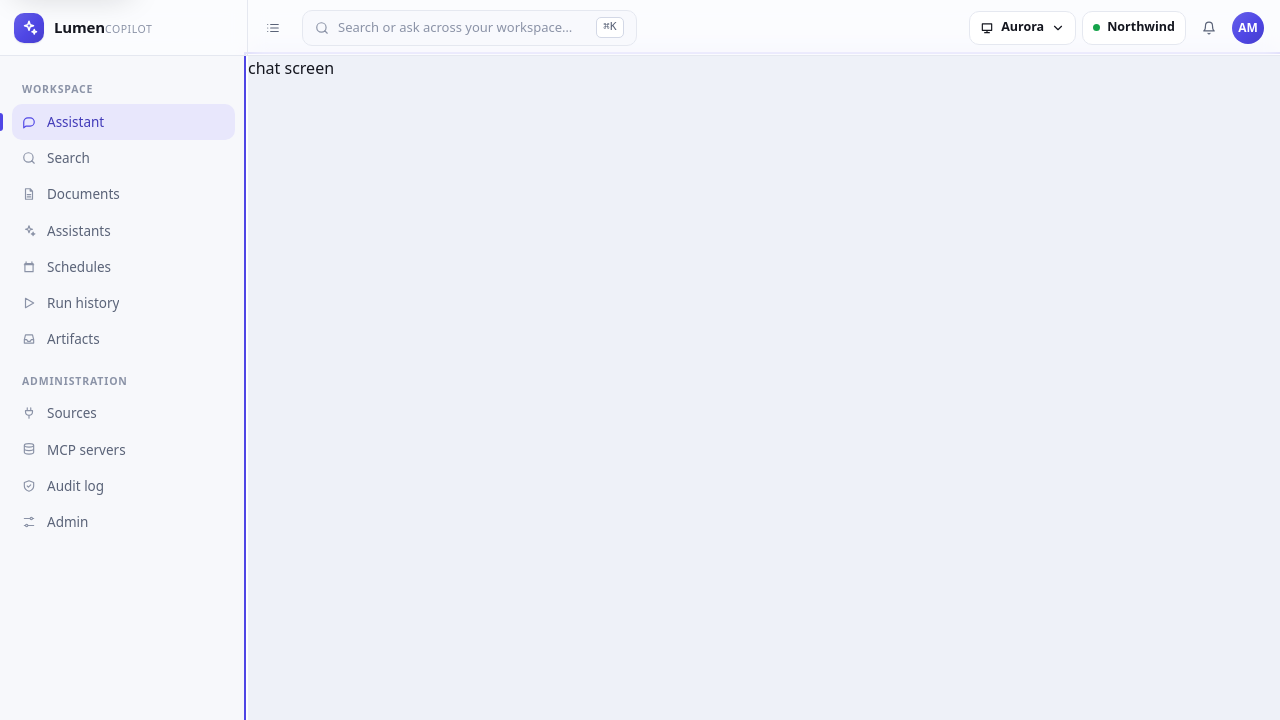
Test: AppShell › opens the command palette from the omni bar
The image size is (1280, 720).
Click the button "Search or ask across your workspace… ⌘K". click: (469, 28)
box: [302,10,637,46]
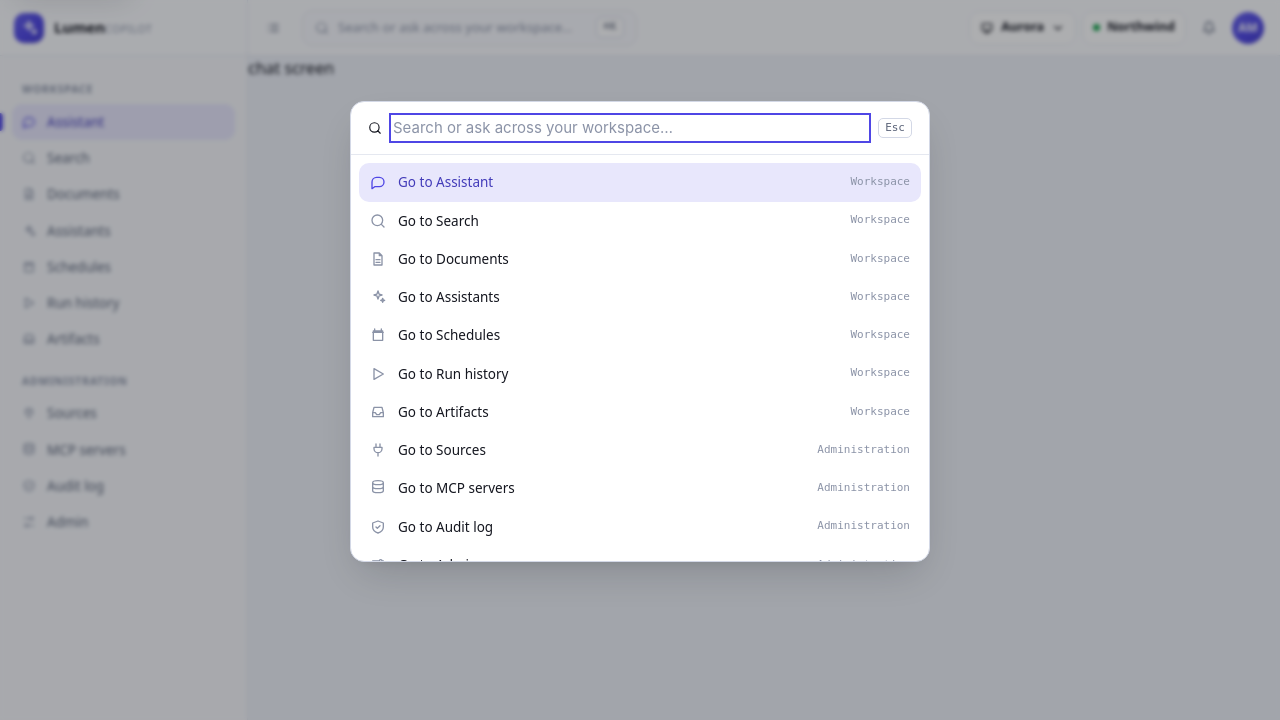
Expected: the dialog named "command palette" is shown
